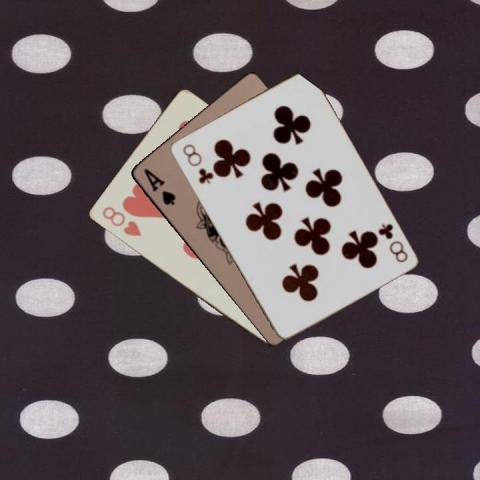8c: (179, 141, 214, 185), (375, 220, 409, 264)
8h: (98, 203, 143, 238)
As: (140, 165, 177, 207)
